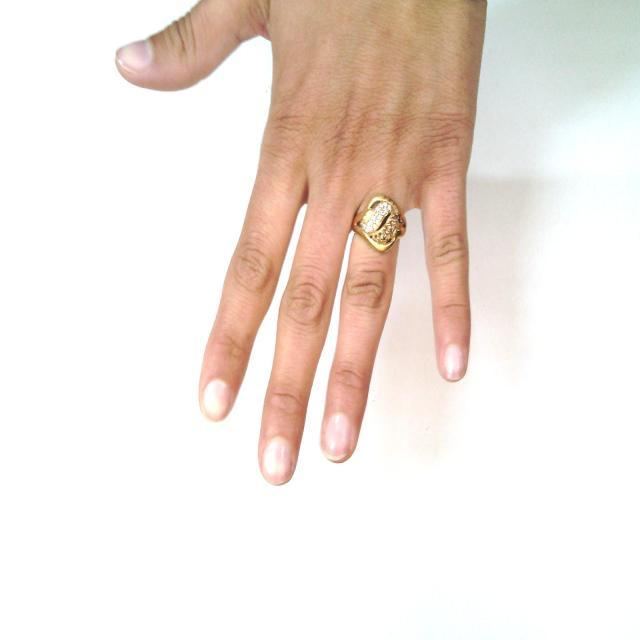Fingernail: (323, 414, 350, 459), (263, 440, 291, 482), (203, 381, 230, 420), (118, 42, 151, 71), (443, 345, 463, 378)
